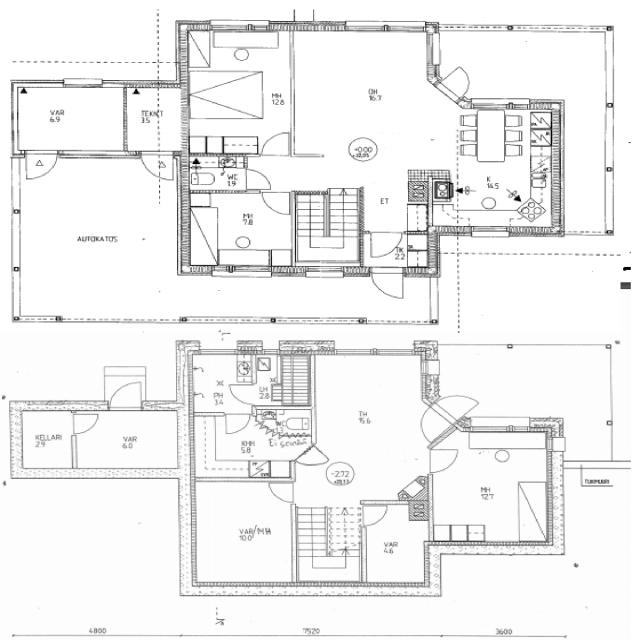door: (186, 189, 295, 268), (368, 229, 407, 295), (225, 380, 256, 427), (106, 379, 144, 413), (370, 267, 407, 301), (366, 229, 405, 260), (138, 148, 175, 180), (442, 64, 474, 100), (24, 150, 60, 180), (426, 445, 461, 474), (258, 188, 294, 216), (260, 130, 294, 158), (241, 167, 275, 192), (359, 502, 390, 529), (70, 410, 102, 436), (266, 479, 298, 504), (224, 411, 252, 438), (227, 383, 256, 405), (342, 504, 362, 523)
window: (340, 18, 420, 35), (599, 107, 619, 173), (56, 147, 135, 163), (468, 417, 533, 435), (329, 346, 421, 358), (206, 18, 271, 34), (222, 262, 275, 280), (7, 267, 25, 320), (470, 96, 529, 110), (466, 225, 514, 240), (301, 266, 348, 281), (200, 348, 236, 356)
zone: (289, 29, 444, 158), (306, 352, 434, 501), (427, 432, 555, 548), (450, 103, 554, 220), (190, 480, 295, 586), (186, 31, 294, 129), (431, 162, 561, 228), (186, 192, 294, 268), (13, 85, 126, 153), (188, 414, 298, 481), (75, 410, 181, 474), (362, 502, 431, 587), (296, 185, 362, 271), (124, 84, 188, 153), (188, 352, 253, 414), (18, 408, 77, 472), (254, 353, 312, 406), (186, 155, 249, 193), (298, 552, 364, 584)
